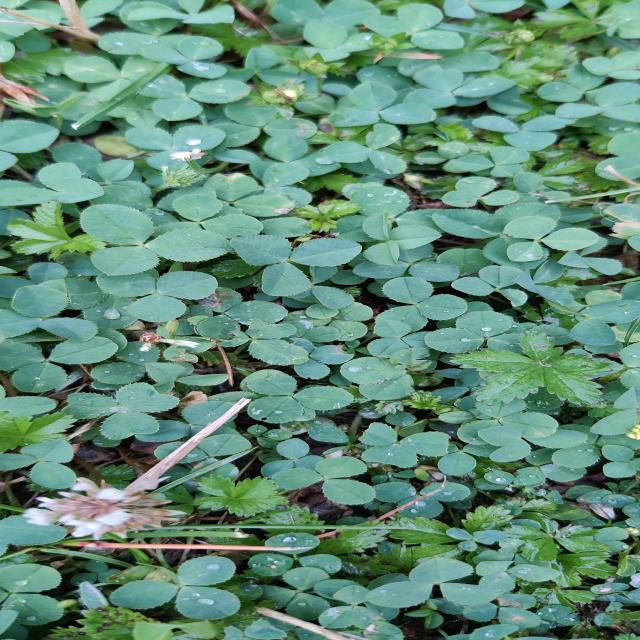four-leaf-clover: (76, 204, 233, 276), (109, 556, 242, 620), (228, 234, 362, 297), (59, 381, 182, 440), (364, 556, 499, 609), (0, 336, 120, 393), (96, 270, 220, 323), (129, 74, 253, 122), (0, 285, 100, 343), (208, 96, 319, 147), (373, 276, 469, 334), (247, 372, 356, 423), (271, 456, 378, 505), (327, 81, 438, 128), (62, 55, 172, 101), (198, 286, 290, 340), (402, 66, 517, 109), (153, 433, 253, 482), (124, 125, 228, 172), (153, 194, 264, 238), (0, 161, 105, 207), (363, 4, 465, 51), (458, 398, 560, 445), (422, 310, 527, 355), (134, 400, 243, 442), (360, 212, 443, 266), (322, 123, 408, 175), (503, 216, 600, 262), (248, 134, 342, 180), (358, 422, 452, 468), (247, 532, 342, 576), (352, 244, 460, 282), (259, 566, 332, 622), (0, 439, 79, 490), (471, 115, 577, 152), (372, 481, 472, 519), (140, 37, 228, 79), (281, 302, 374, 341), (554, 82, 640, 124), (300, 21, 387, 62), (217, 48, 307, 87), (450, 265, 528, 307), (318, 585, 388, 630), (513, 258, 576, 307), (535, 63, 607, 105), (513, 448, 588, 488), (462, 594, 542, 631), (258, 438, 326, 478), (476, 560, 561, 592), (441, 176, 521, 208), (366, 320, 433, 358), (454, 146, 531, 178), (413, 142, 471, 173), (582, 51, 640, 80), (445, 527, 508, 552), (71, 559, 123, 586), (600, 444, 640, 478), (246, 424, 293, 448)
